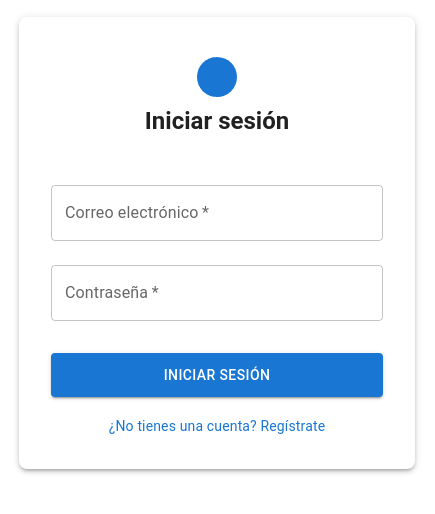
Test: Login screen › Invalid email format (invalid email)
In the field named "email": (217, 213) [51,185,383,241], type "incorrectemailformat"
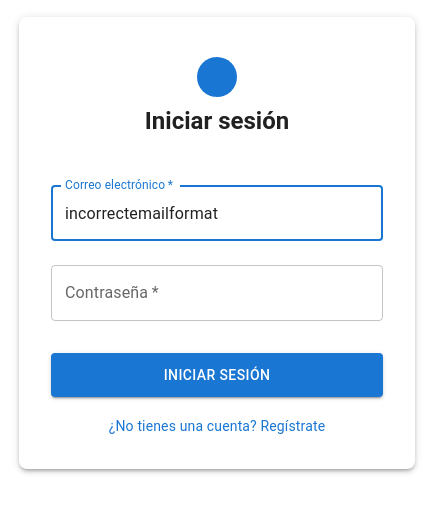
In the password field named "password": (192, 293) [51,265,333,321], type "Password123!"
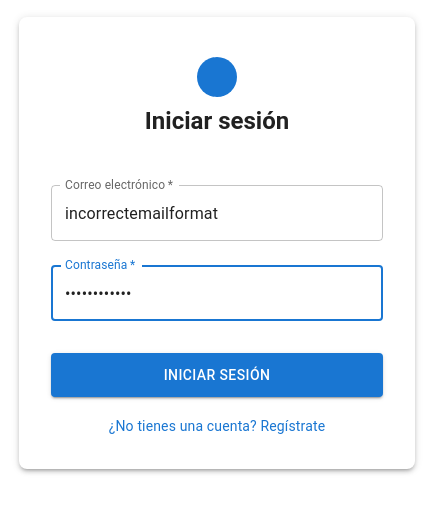
Click the submit button: (217, 375) [51,353,383,397]
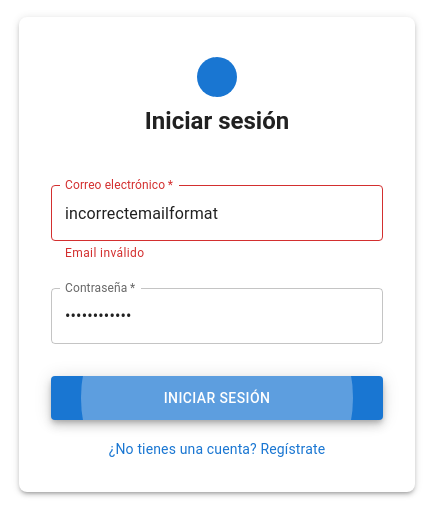
Now the text "Email inválido" is shown, box [65,246,144,260]
